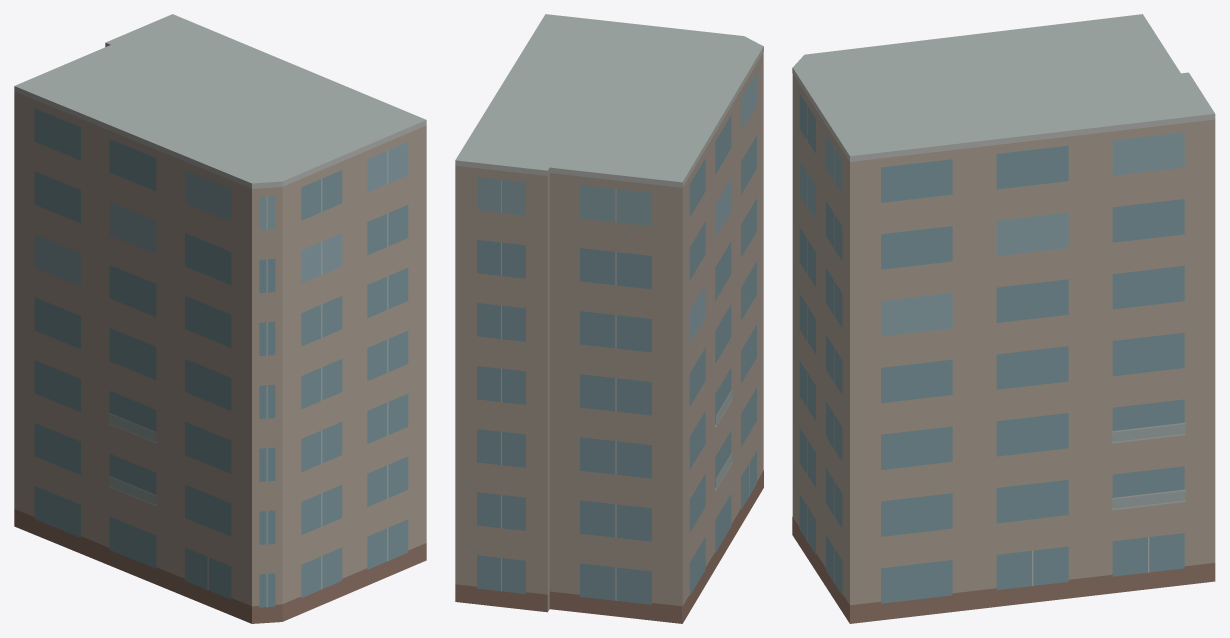
Rendered from survey-upis-32973058.glb.
The picture shows the model from 3 angles, left to right: view 1: azimuth 30°, elevation 25°; view 2: azimuth 150°, elevation 25°; view 3: azimuth 270°, elevation 25°; orthographic projection. The views are drawn at different scales.
Parts seen in each view (by area): view 1: survey-upis-32973058.tmp; view 2: survey-upis-32973058.tmp; view 3: survey-upis-32973058.tmp.
Part boxes in pixels (x1,y1,x2,y2): survey-upis-32973058.tmp: [14, 14, 426, 623]; survey-upis-32973058.tmp: [455, 14, 763, 623]; survey-upis-32973058.tmp: [792, 14, 1215, 623].
Bounding box in the file's own units: 13.06 × 20 × 16.4.
